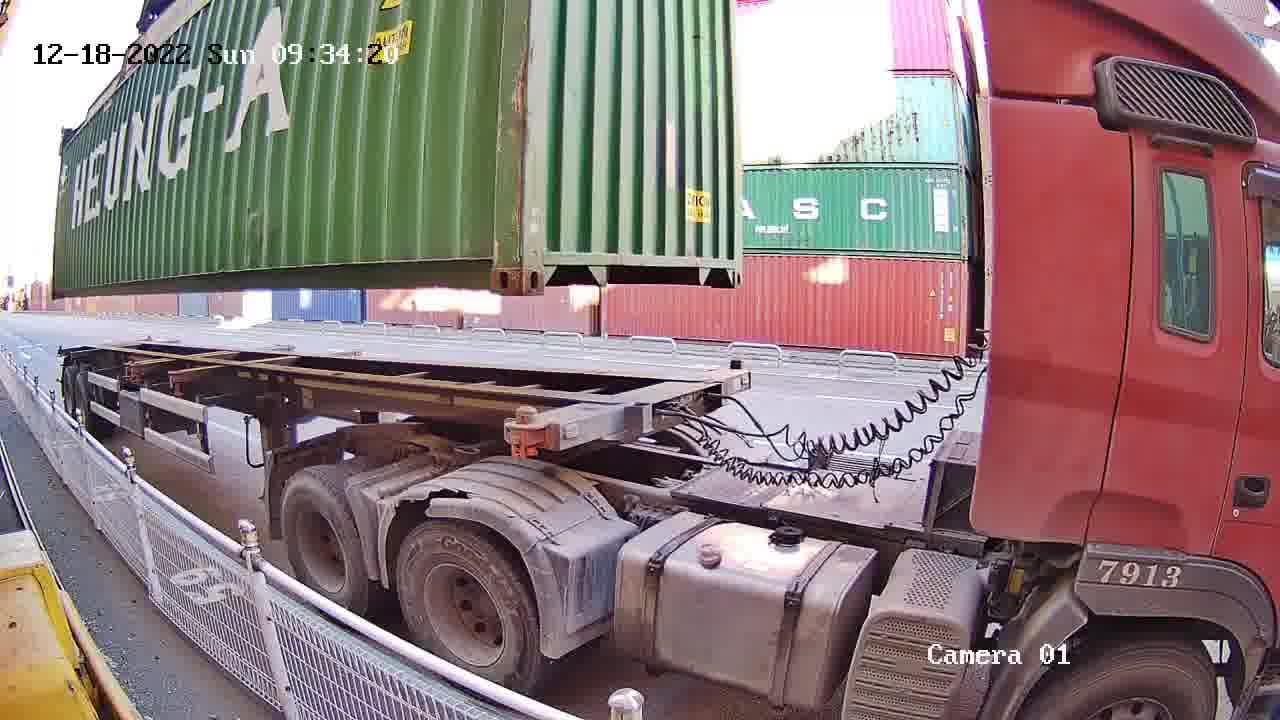Chassis: (508, 365, 750, 451)
Cone: (505, 402, 545, 460), (727, 356, 747, 387)
Hole_L: (523, 238, 575, 296)
Hole_R: (459, 239, 521, 295), (706, 239, 744, 288)
Tire: (397, 525, 535, 682), (280, 477, 366, 610)
